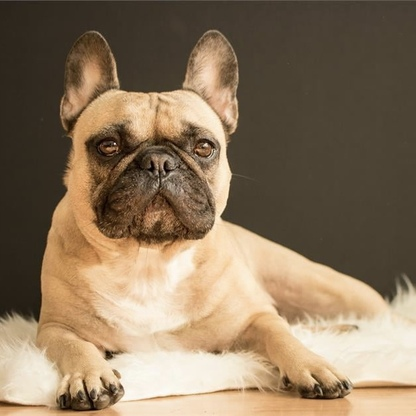bulldog: (41, 28, 359, 408)
